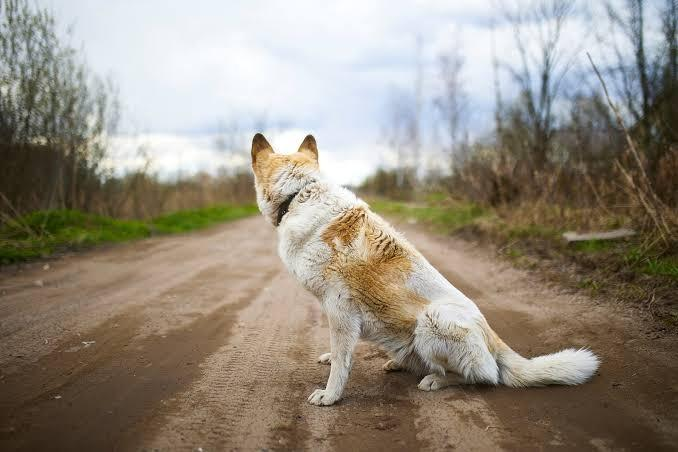adult_dog: (250, 131, 603, 407)
